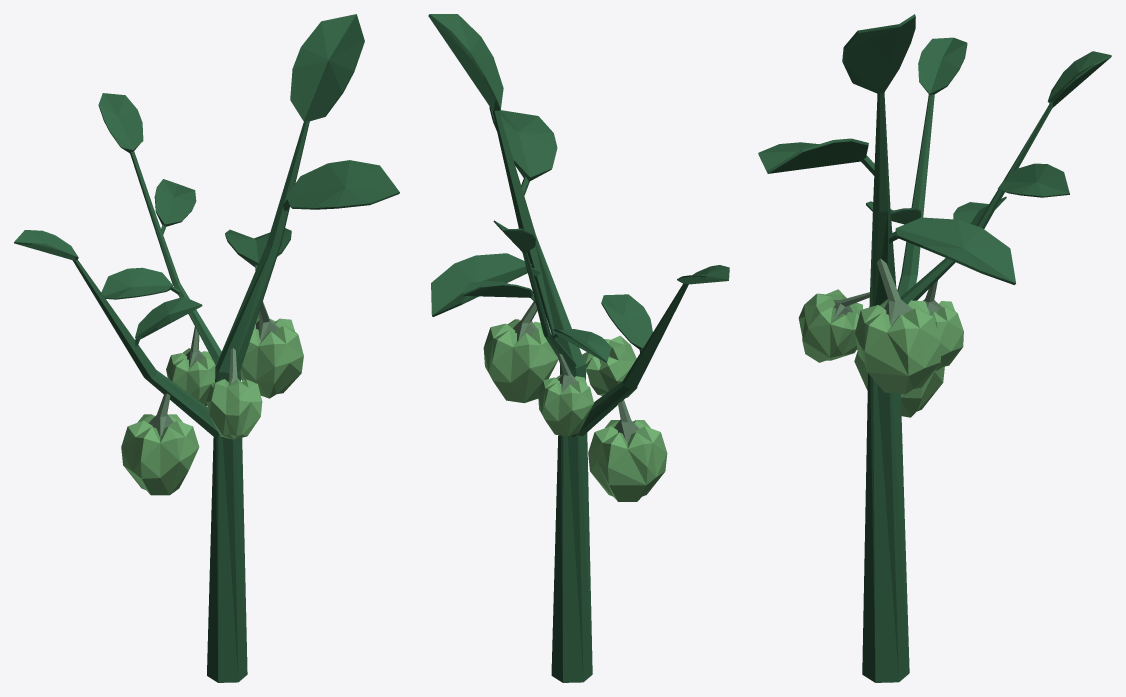
Rendered from mod_Plant_PoivronVertM.fbx.
3 renders of one model, left to right at view 1: azimuth 30°, elevation 25°; view 2: azimuth 150°, elevation 25°; view 3: azimuth 270°, elevation 25°, orthographic. The views are drawn at different scales.
Parts seen in each view (by area): view 1: TigePoivron.005; view 2: TigePoivron.005; view 3: TigePoivron.005.
Part boxes in pixels (left/top/right/bottom): TigePoivron.005: left=14, top=14, right=399, bottom=682; TigePoivron.005: left=428, top=14, right=729, bottom=682; TigePoivron.005: left=758, top=14, right=1111, bottom=682.
Bounding box in the file's own units: 46.74 × 87.08 × 38.42.
